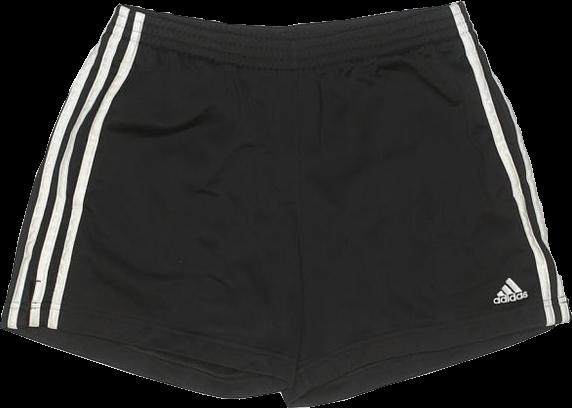Hemline: (294, 317, 571, 393), (0, 321, 298, 389)
Pantleg: (0, 3, 306, 399), (274, 1, 569, 407)
Waistline: (99, 26, 477, 70), (116, 0, 463, 28)
